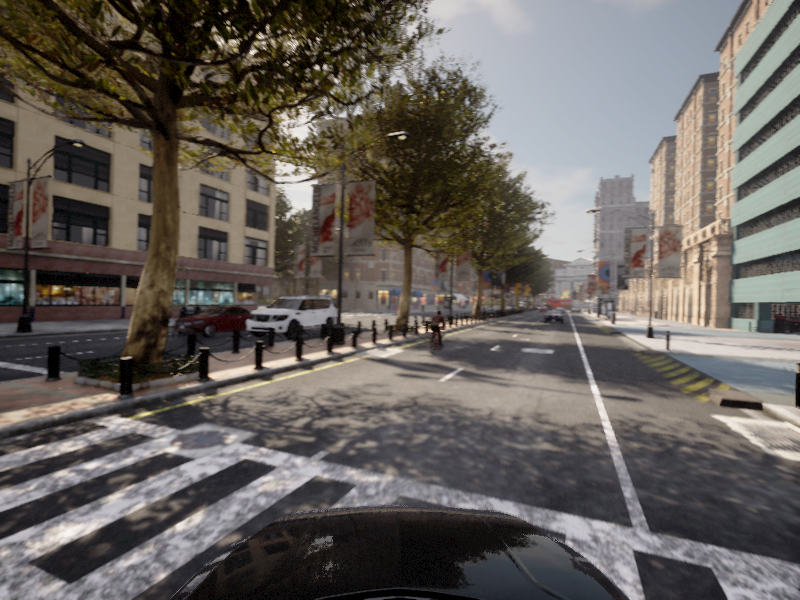vehicle: (240, 294, 341, 341), (167, 305, 269, 338), (422, 310, 450, 355), (543, 309, 564, 324)
